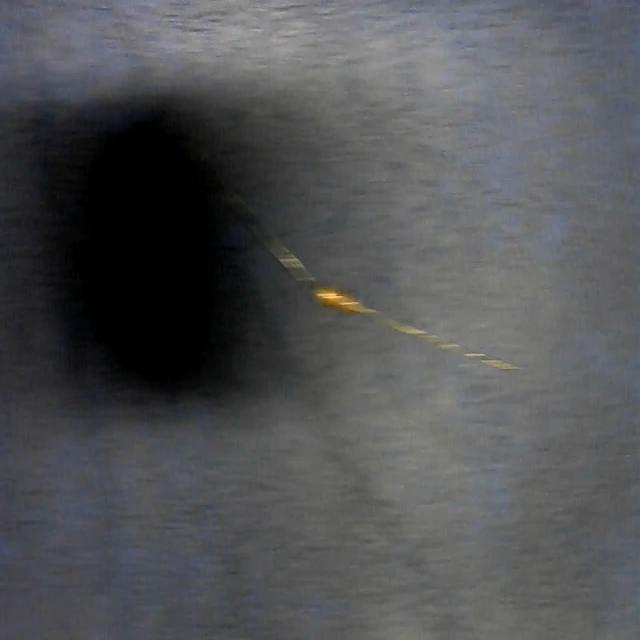resistor: (222, 186, 523, 373)
